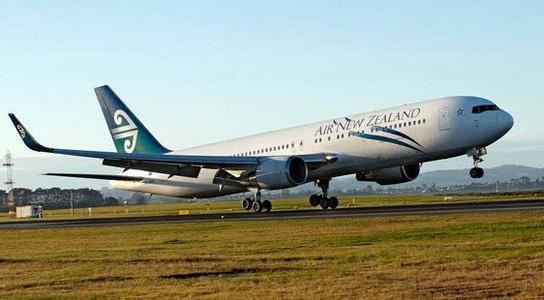airplane: (4, 82, 522, 213)
